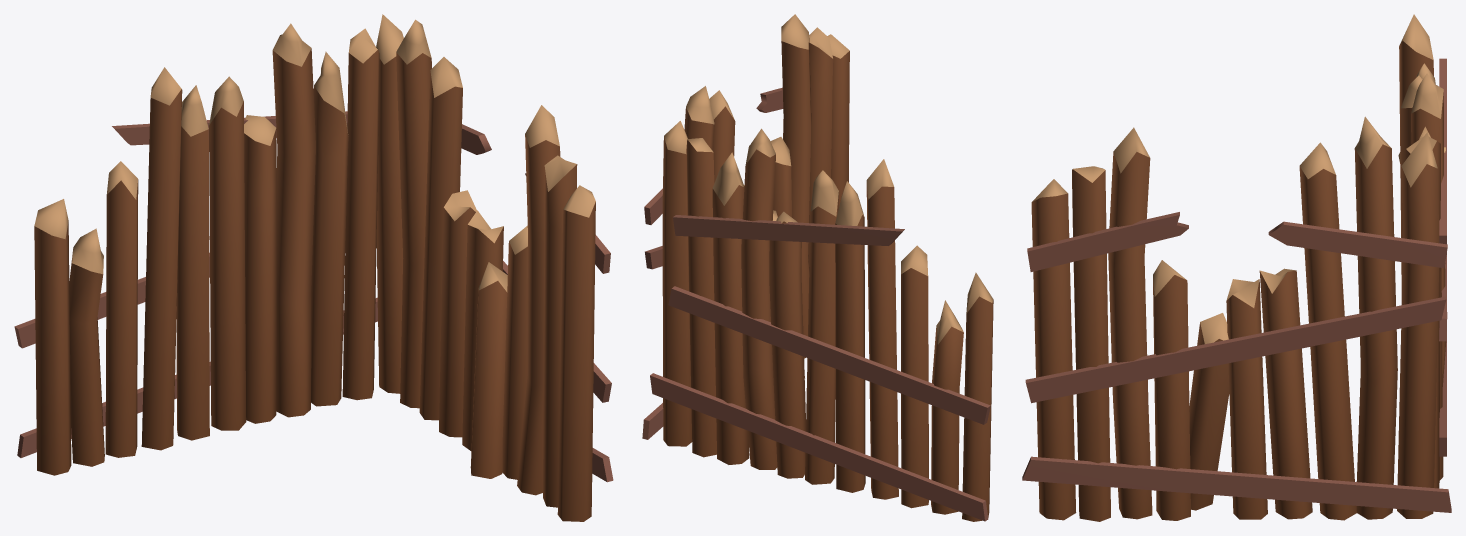
Rendered from Fence_WoodC_L.fbx.
3 renders of one model, left to right at view 1: azimuth 30°, elevation 25°; view 2: azimuth 150°, elevation 25°; view 3: azimuth 270°, elevation 25°, orthographic. The views are drawn at different scales.
Visible parts, largest first — view 1: Fence_WoodC_L; view 2: Fence_WoodC_L; view 3: Fence_WoodC_L.
Boxes of the visible parts, box(x1,y1,x2,y2) form: Fence_WoodC_L: box(14, 14, 613, 521); Fence_WoodC_L: box(642, 14, 993, 521); Fence_WoodC_L: box(1022, 14, 1451, 521).
Size of the model in its own units: 591 by 561 by 555.
